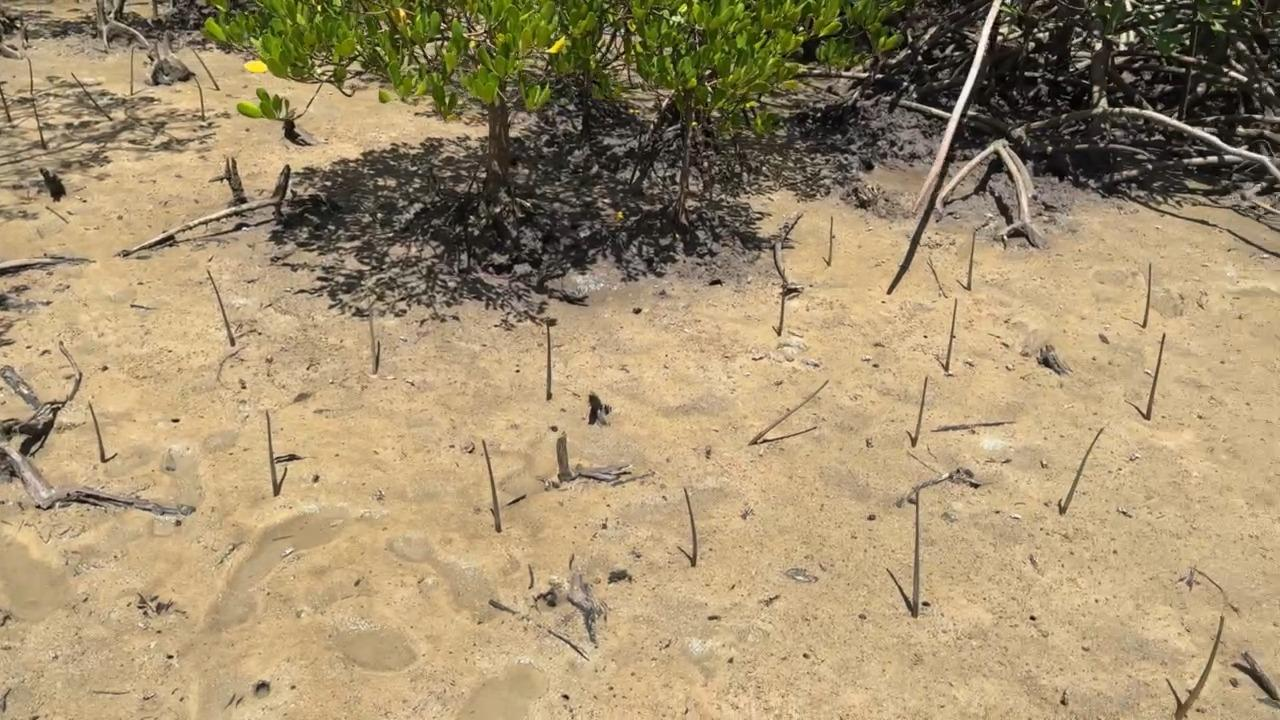Tree: (1175, 615, 1227, 719), (749, 379, 830, 444), (1061, 427, 1104, 515), (207, 270, 235, 346), (71, 72, 112, 121), (481, 439, 502, 534), (1146, 333, 1165, 421), (912, 376, 930, 446), (266, 410, 280, 497), (911, 492, 920, 618), (684, 488, 698, 567), (193, 49, 219, 90), (89, 402, 106, 463), (946, 298, 959, 371), (367, 298, 377, 375), (777, 266, 787, 336), (965, 233, 977, 290), (1142, 263, 1152, 328), (33, 101, 46, 148), (545, 324, 552, 401), (195, 78, 206, 121), (0, 88, 12, 122), (827, 216, 835, 266), (129, 47, 136, 94), (27, 57, 34, 93)
